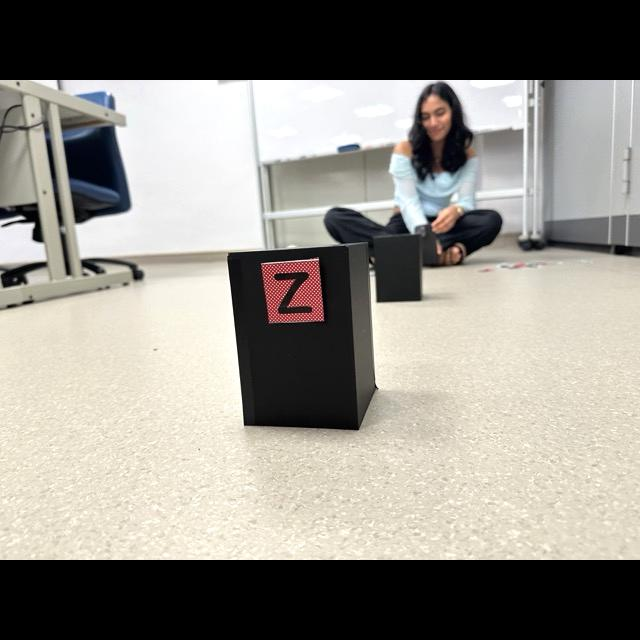Z: (273, 272, 313, 314)
